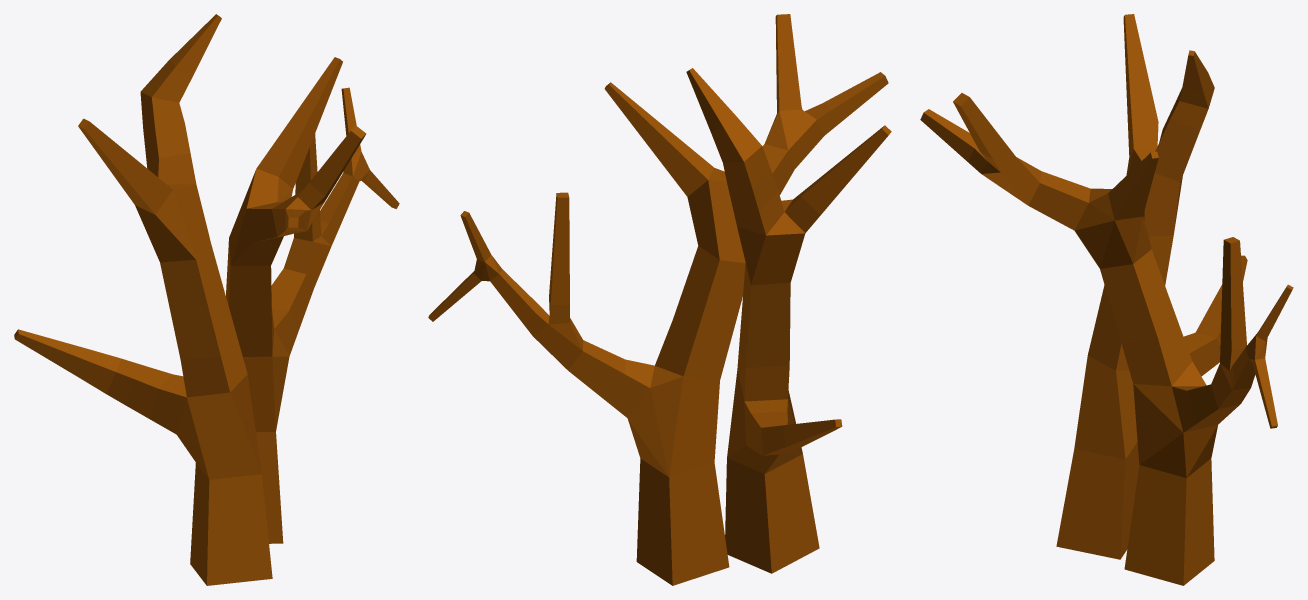
The model's file is Bush2.fbx.
3 renders of one model, left to right at view 1: azimuth 30°, elevation 25°; view 2: azimuth 150°, elevation 25°; view 3: azimuth 270°, elevation 25°, orthographic.
Parts seen in each view (by area): view 1: Vert.005; view 2: Vert.005; view 3: Vert.005.
Part boxes in pixels (x1,y1,x2,y2): Vert.005: (14, 14, 399, 585); Vert.005: (428, 14, 891, 585); Vert.005: (920, 14, 1293, 585).
Size of the model in its own units: 82.74 by 102 by 67.83.
